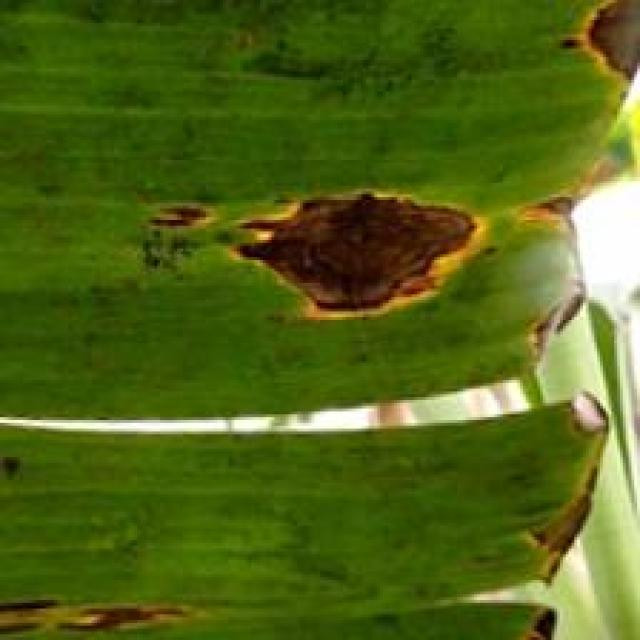Bacterial_spot: (230, 178, 496, 320), (0, 588, 214, 640), (528, 456, 604, 600), (545, 0, 640, 85), (514, 280, 596, 375), (508, 175, 588, 258), (143, 184, 216, 248), (549, 381, 623, 444), (520, 592, 560, 640), (0, 445, 37, 489)
